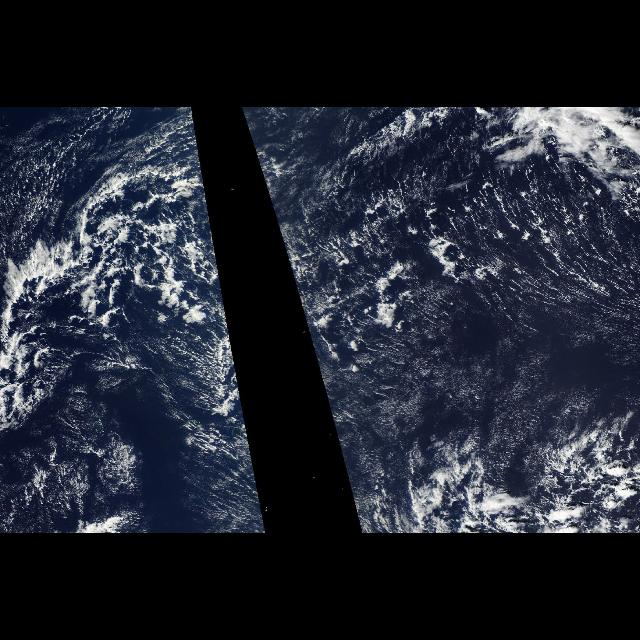Fish: (7, 161, 129, 381)
Gravel: (260, 152, 640, 366)
Sugar: (346, 287, 634, 457)
